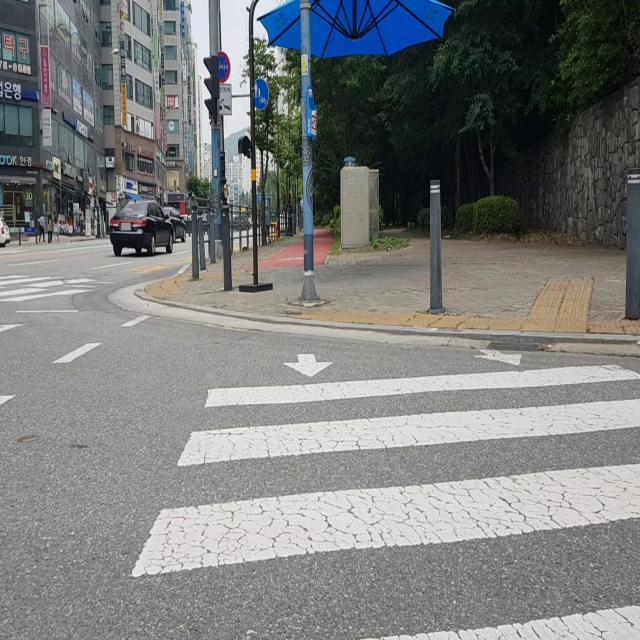횡단보도: (127, 338, 640, 640), (0, 272, 106, 303)
